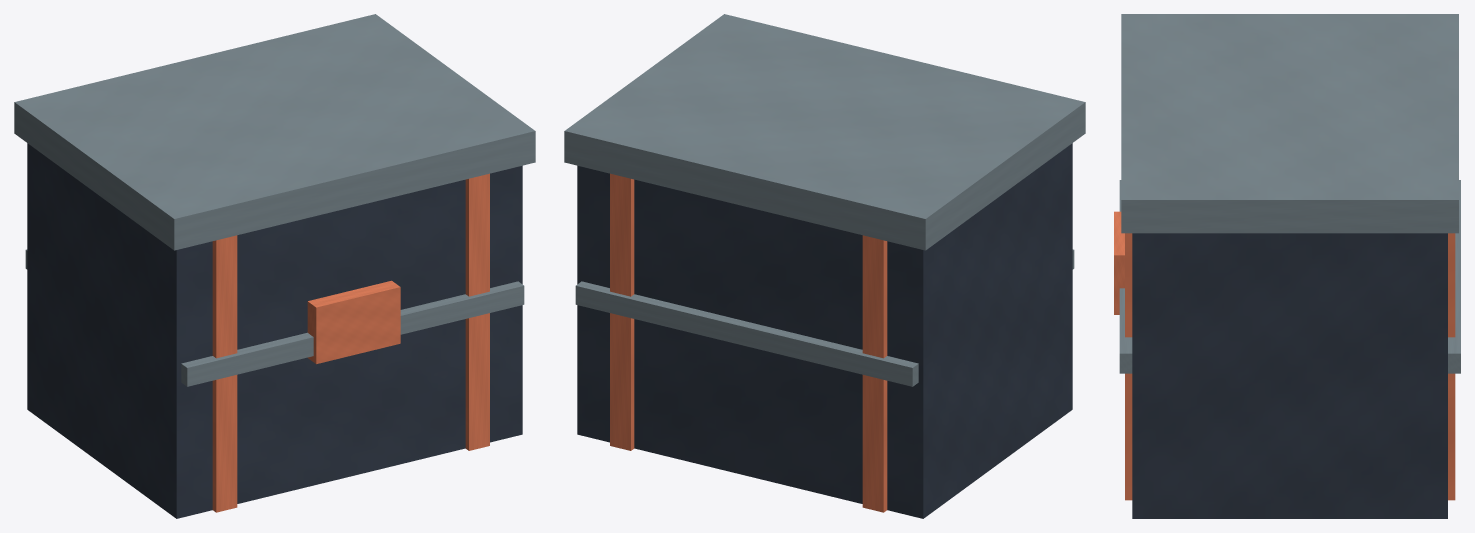
The model's file is atlas100-basalt-util02.glb.
3 views of the same model, side by side, from view 1: azimuth 30°, elevation 25°; view 2: azimuth 150°, elevation 25°; view 3: azimuth 270°, elevation 25° (orthographic). The views are drawn at different scales.
Visible parts, largest first — view 1: atlas100-basalt-util02:part-000, atlas100-basalt-util02:part-005, atlas100-basalt-util02:part-001, atlas100-basalt-util02:part-004, atlas100-basalt-util02:part-002, atlas100-basalt-util02:part-006; view 2: atlas100-basalt-util02:part-000, atlas100-basalt-util02:part-005, atlas100-basalt-util02:part-003, atlas100-basalt-util02:part-001, atlas100-basalt-util02:part-002; view 3: atlas100-basalt-util02:part-000, atlas100-basalt-util02:part-005, atlas100-basalt-util02:part-002, atlas100-basalt-util02:part-003, atlas100-basalt-util02:part-006, atlas100-basalt-util02:part-004.
Boxes of the visible parts, x1,y1,x2,y2 form: atlas100-basalt-util02:part-000: (27, 143, 522, 518); atlas100-basalt-util02:part-005: (14, 14, 535, 250); atlas100-basalt-util02:part-001: (212, 235, 237, 512); atlas100-basalt-util02:part-004: (181, 281, 524, 386); atlas100-basalt-util02:part-002: (465, 173, 489, 450); atlas100-basalt-util02:part-006: (307, 280, 400, 364); atlas100-basalt-util02:part-000: (577, 143, 1072, 518); atlas100-basalt-util02:part-005: (564, 14, 1085, 250); atlas100-basalt-util02:part-003: (575, 281, 918, 386); atlas100-basalt-util02:part-001: (862, 235, 887, 512); atlas100-basalt-util02:part-002: (610, 173, 634, 450); atlas100-basalt-util02:part-000: (1132, 233, 1447, 518); atlas100-basalt-util02:part-005: (1121, 14, 1458, 233); atlas100-basalt-util02:part-002: (1125, 233, 1455, 500); atlas100-basalt-util02:part-003: (1448, 180, 1460, 373); atlas100-basalt-util02:part-006: (1114, 211, 1124, 314); atlas100-basalt-util02:part-004: (1119, 180, 1132, 373).
Size of the model in its own units: 1.26 by 1.01 by 0.9885.
3 materials, 3 textured.
